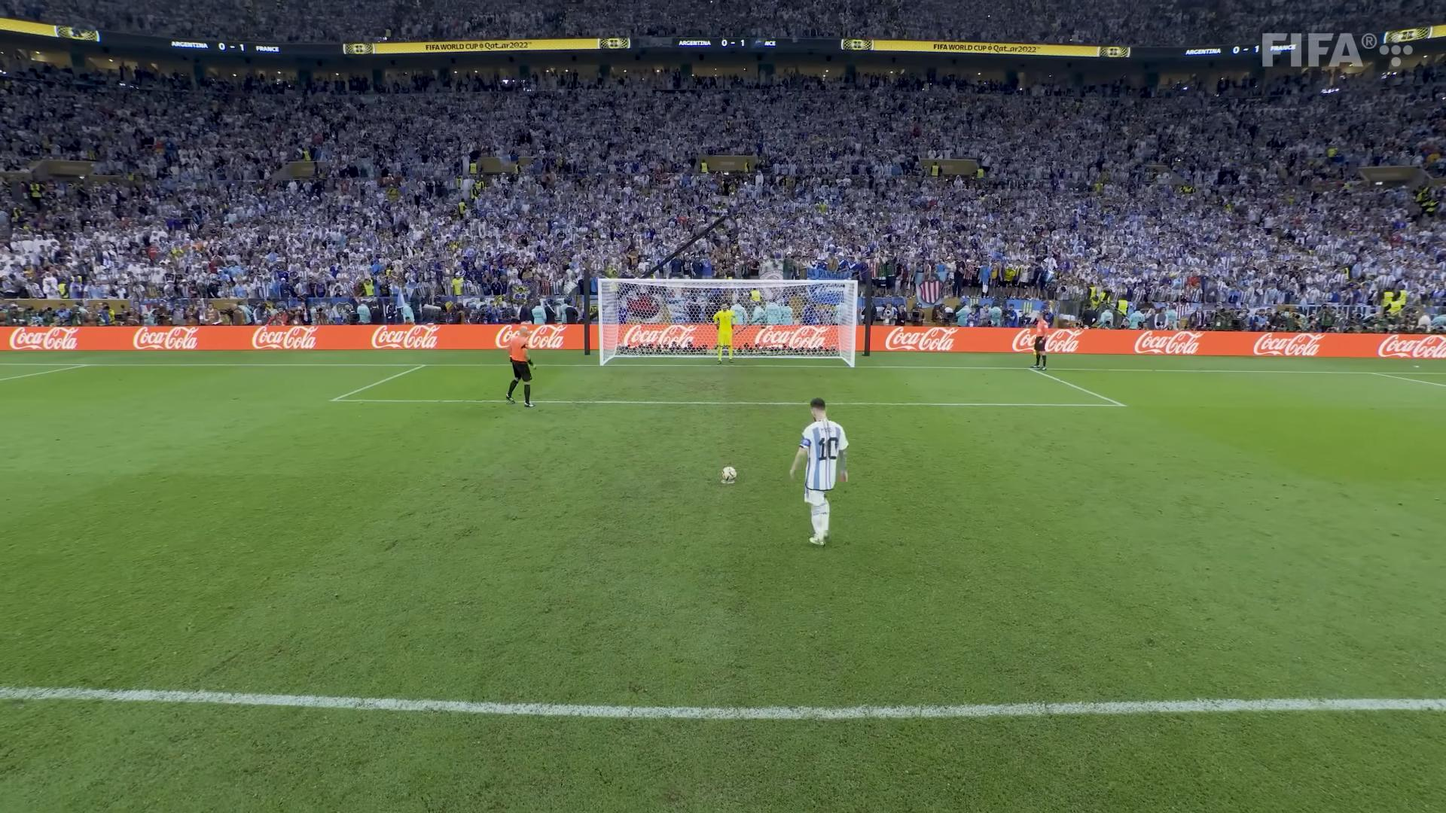Goalkeeper: (715, 302, 746, 361)
Player: (791, 398, 847, 543)
ball: (720, 466, 737, 481)
referee: (506, 325, 534, 409), (1034, 316, 1048, 368)
